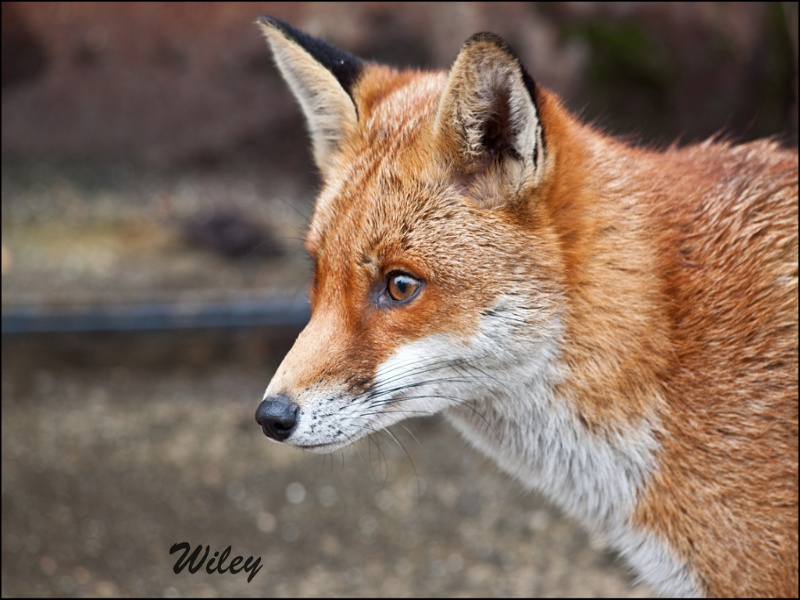fox: (240, 12, 798, 586)
